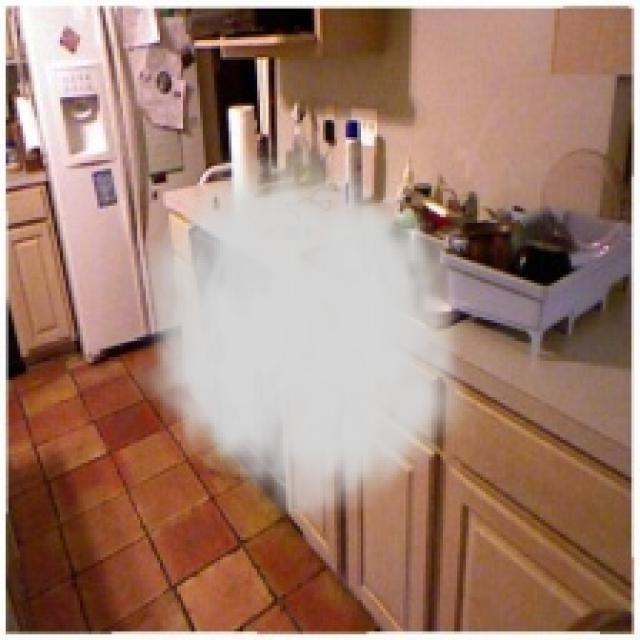Smoke: (134, 128, 480, 538)
